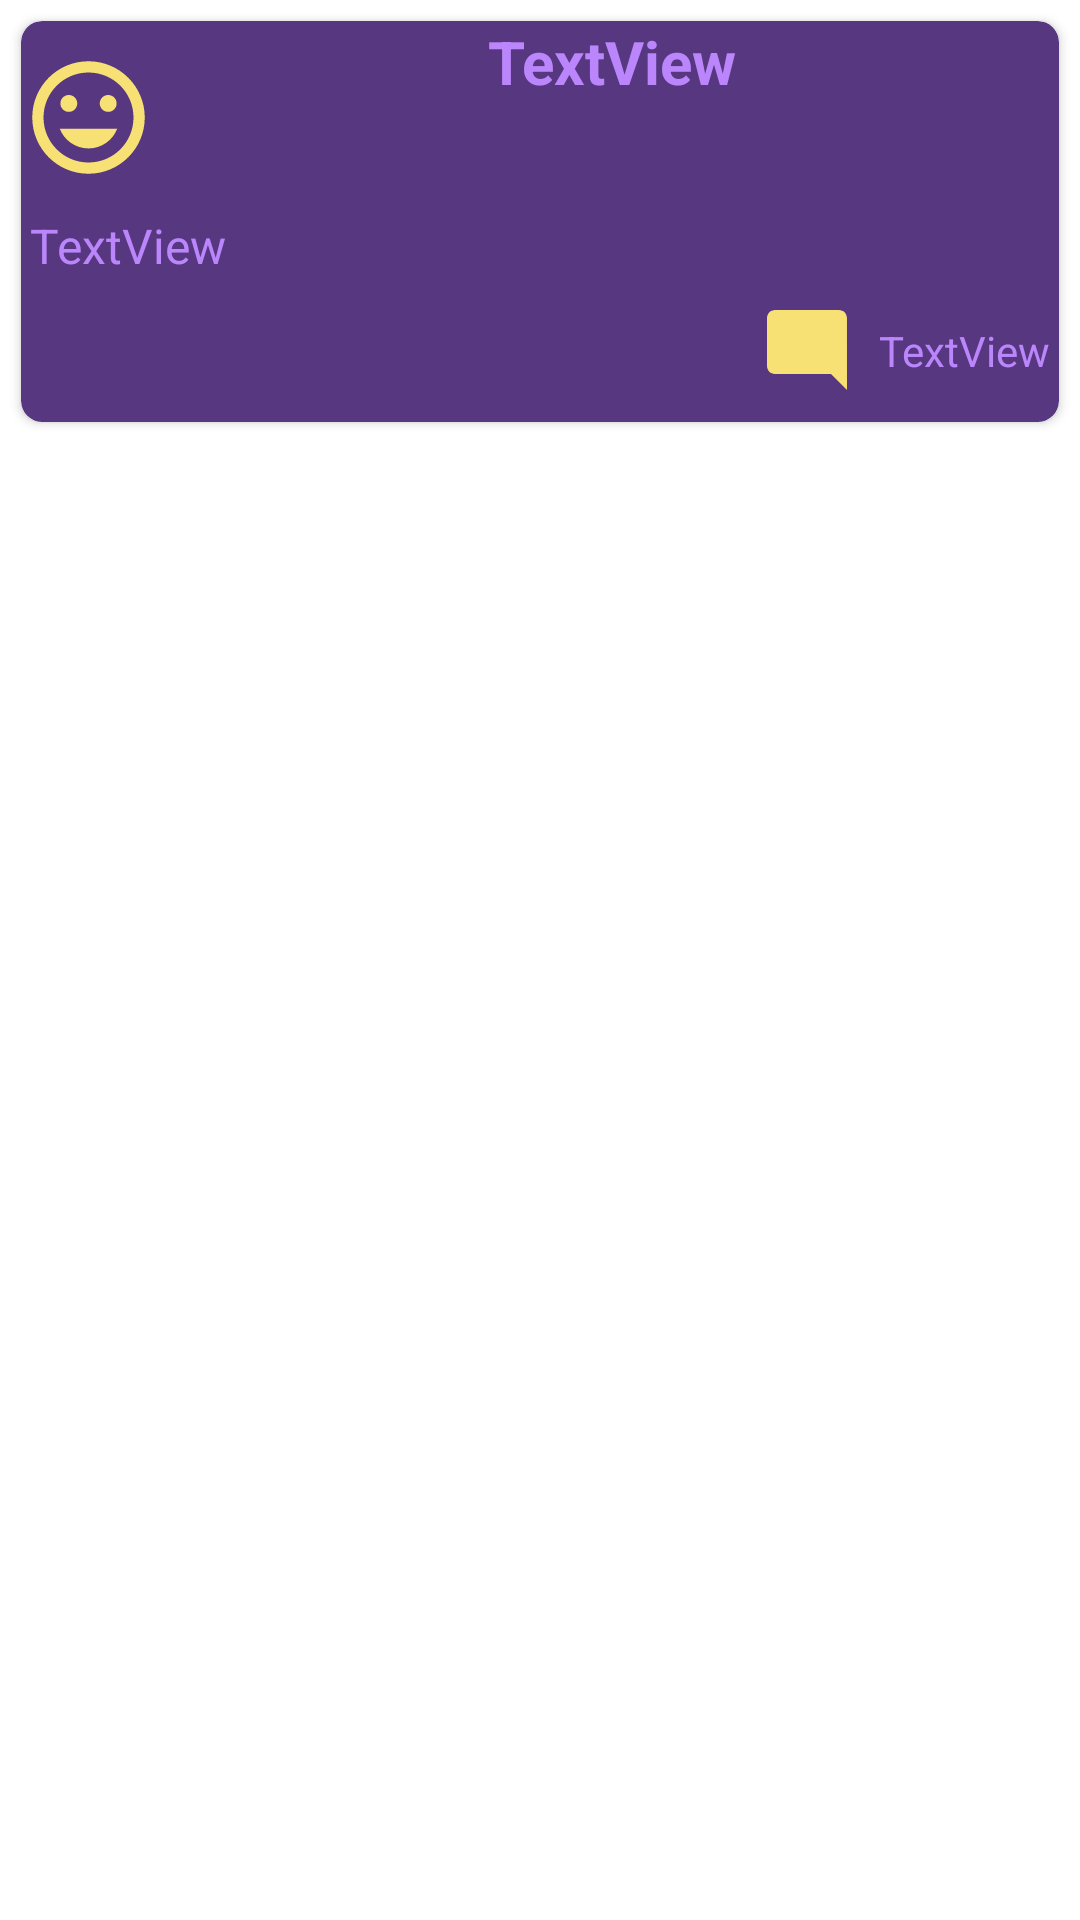

Point at icon controls on the screen. Image size 1080 x 1920, points as [x,y].
comment: [807,350]
